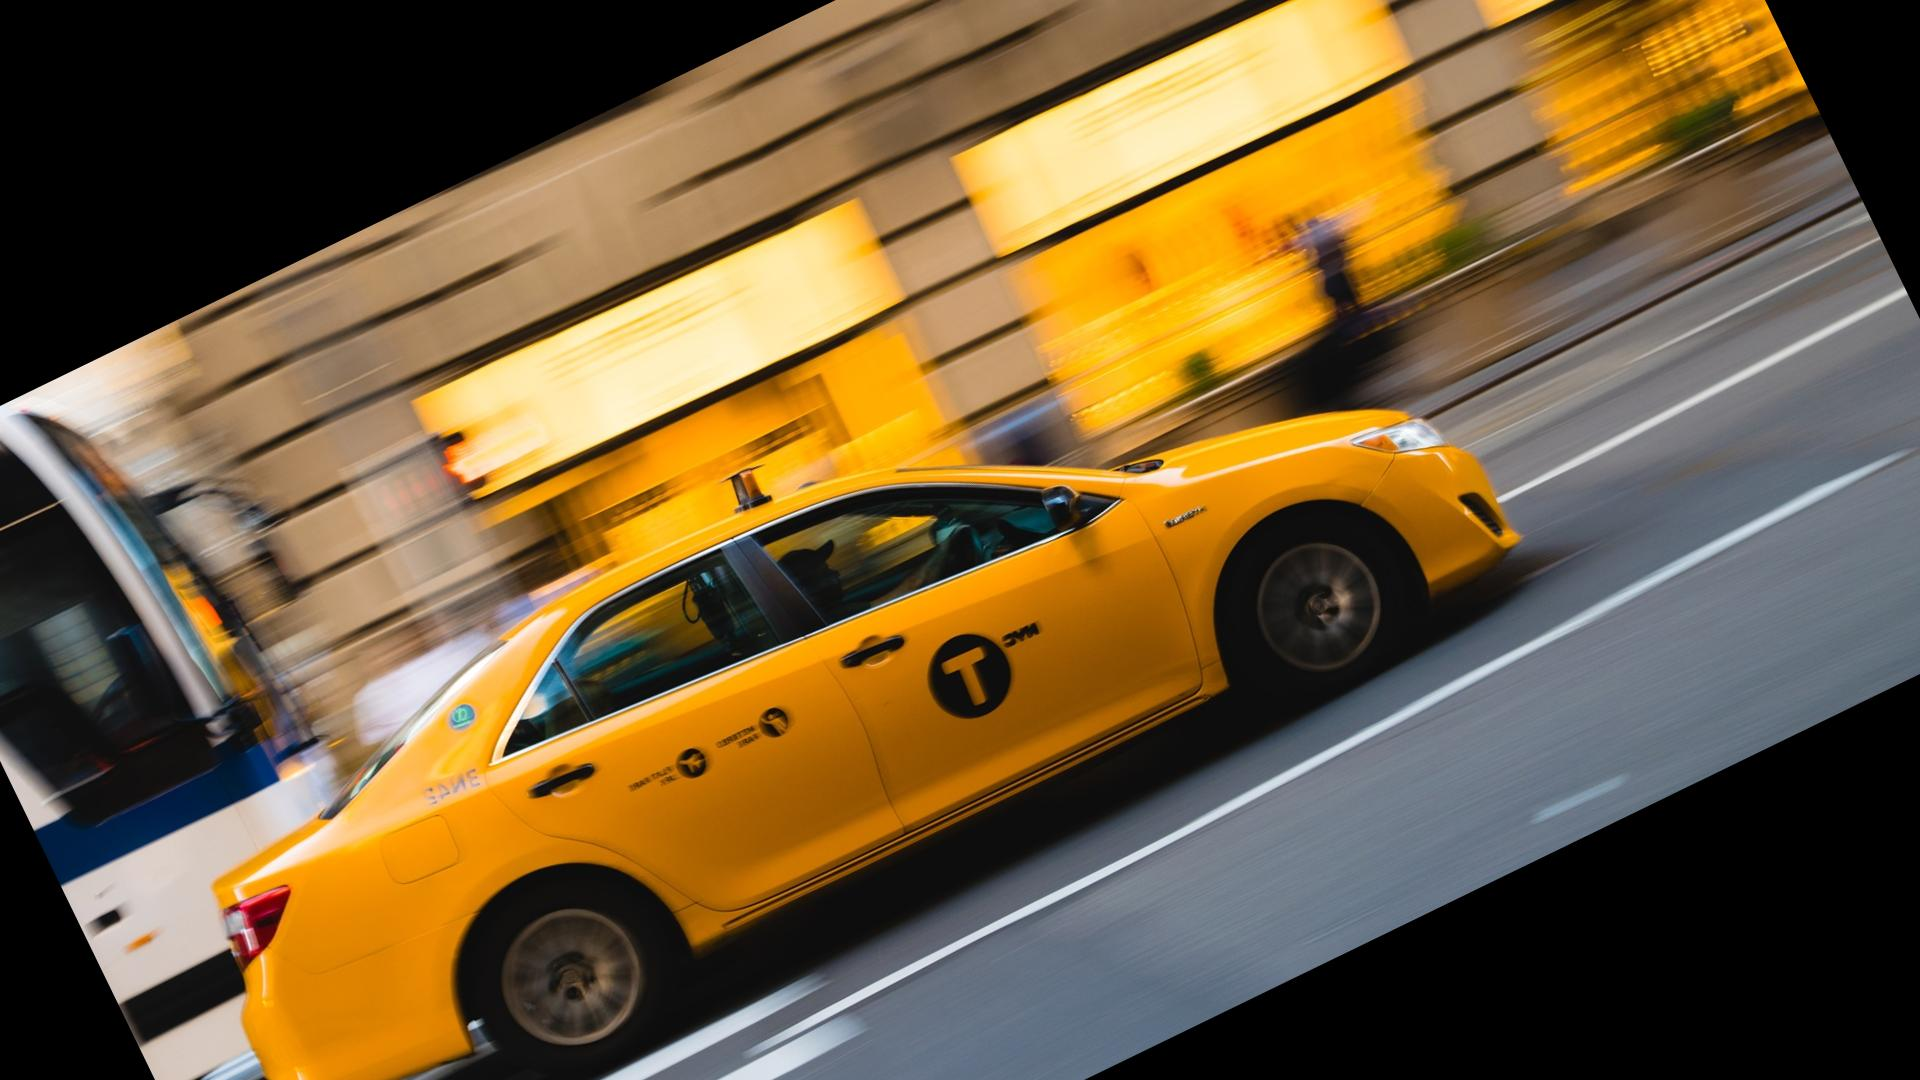taxi: (194, 364, 1523, 1080)
